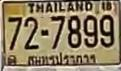2: (24, 16, 37, 49)
7: (7, 16, 22, 50), (50, 16, 64, 48)
8: (67, 15, 80, 47)
9: (83, 14, 97, 48), (99, 14, 113, 46)
SPK: (27, 52, 98, 65)
